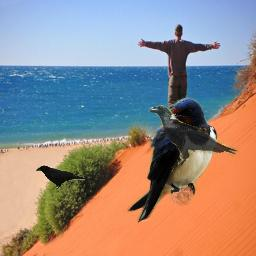Crow: (147, 105, 239, 167), (34, 164, 85, 189)
Swallow: (127, 97, 218, 225)
